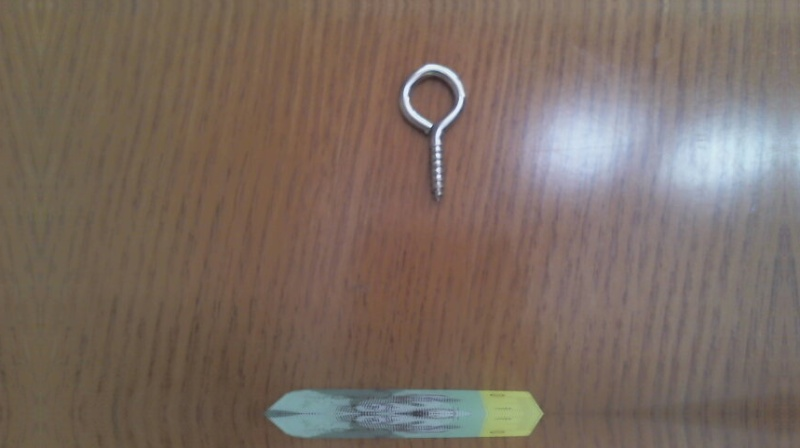O001: (392, 57, 472, 205)
